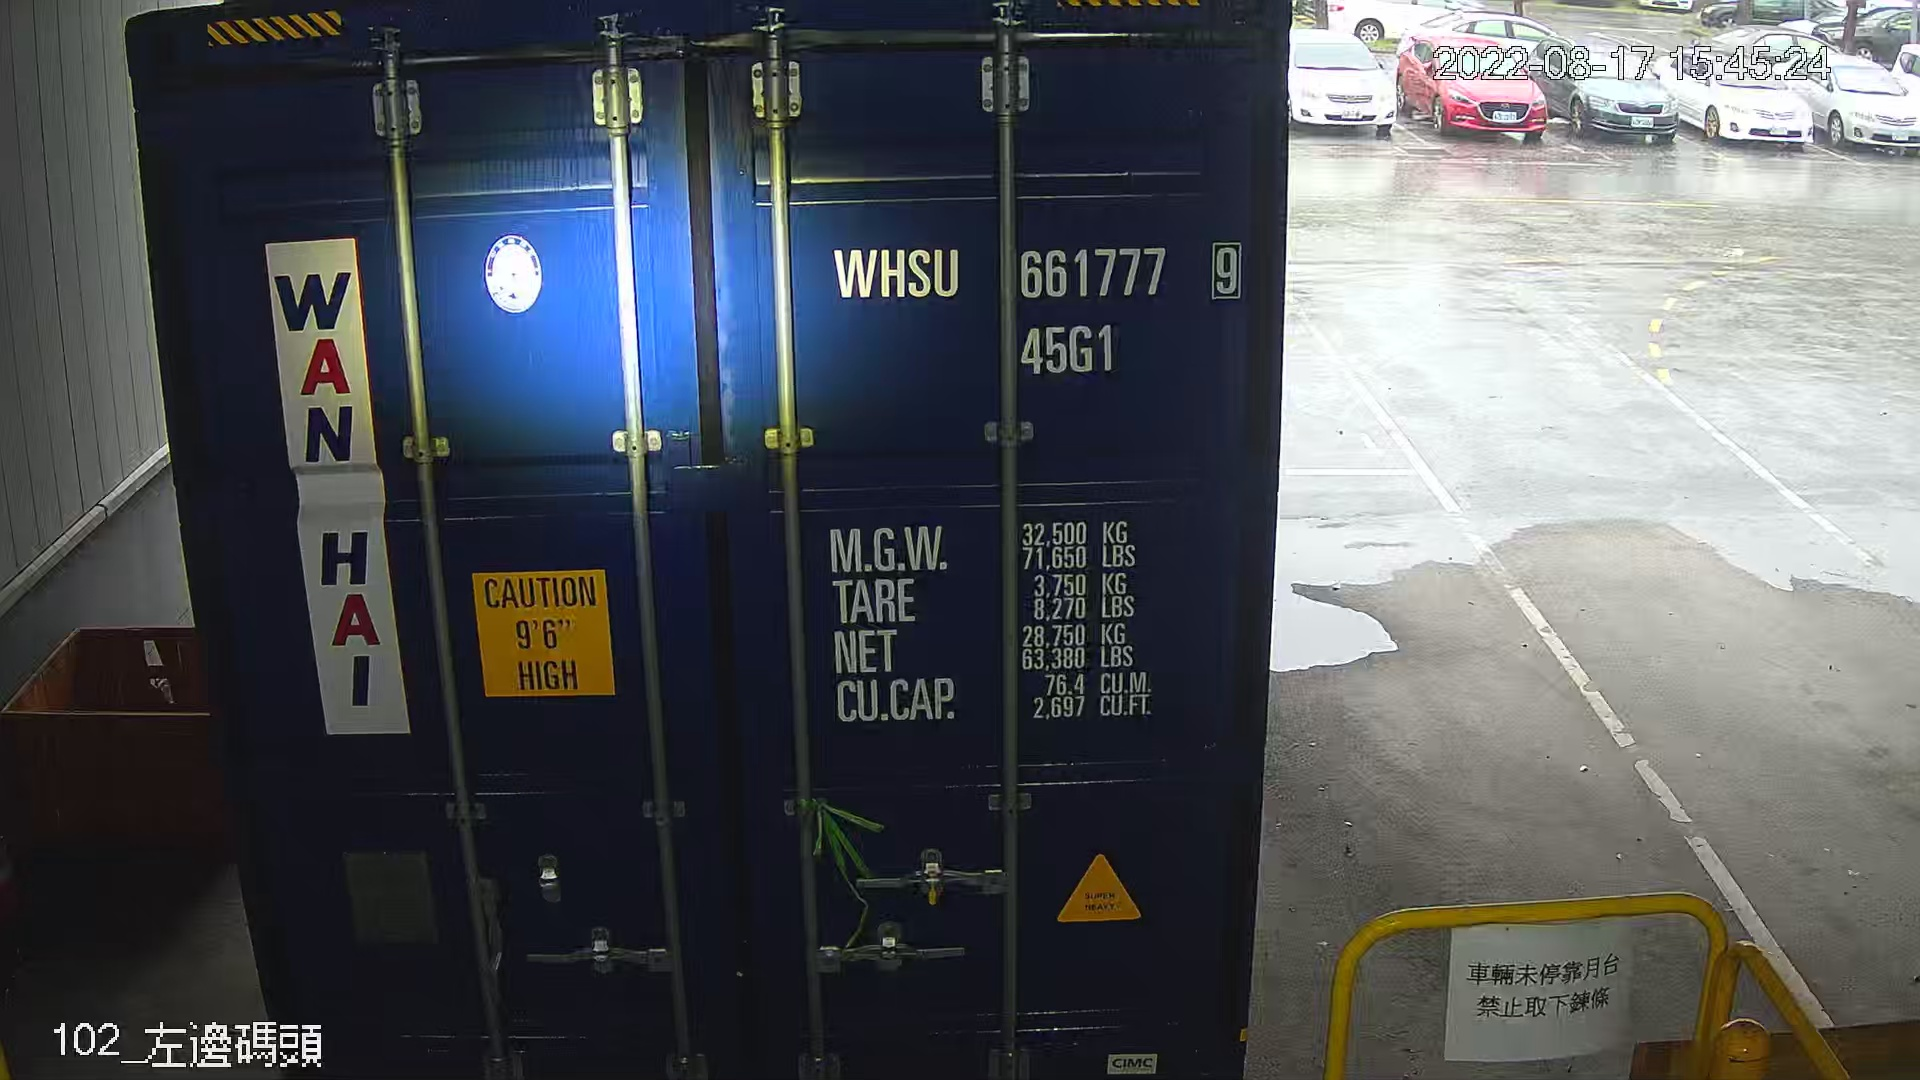container: (814, 232, 1255, 389)
